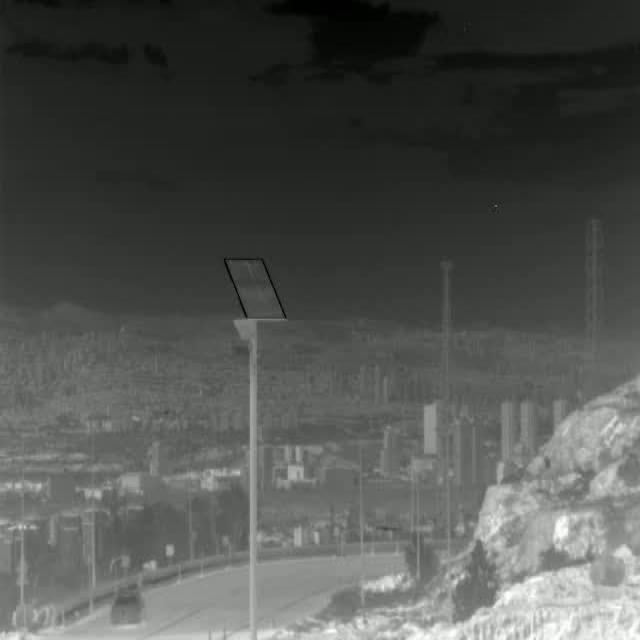Car: (109, 592, 142, 627)
